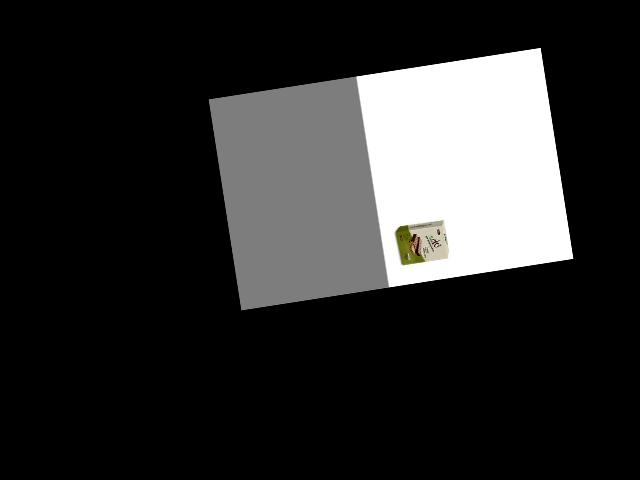chocolate: (392, 216, 451, 270)
